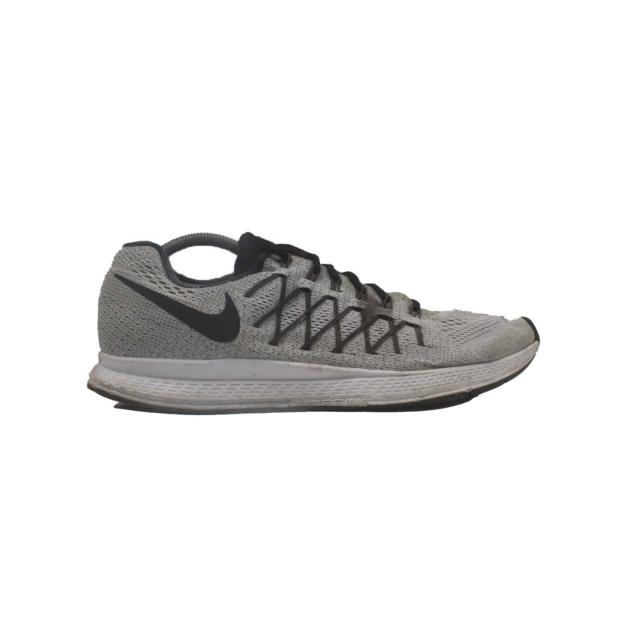heel: (92, 219, 117, 356)
midsole: (86, 346, 544, 418)
uppersole: (122, 208, 556, 361)
